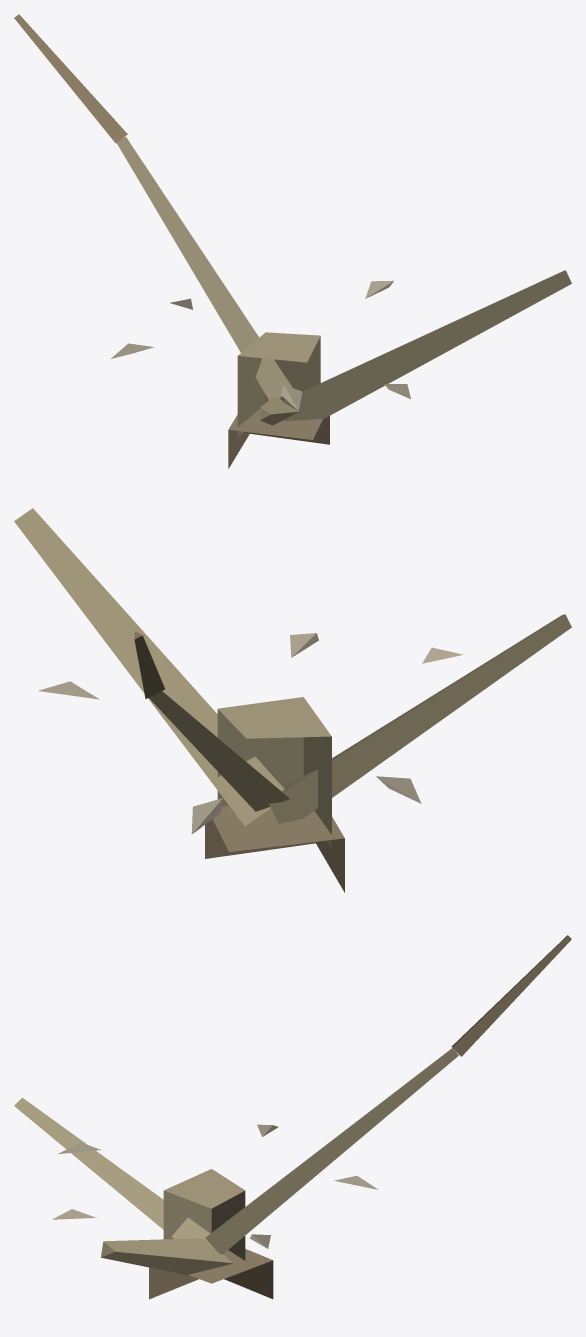
File: shu.chuilui@withered__summer.glb
3 renders of one model, top to bottom at view 1: azimuth 30°, elevation 25°; view 2: azimuth 150°, elevation 25°; view 3: azimuth 270°, elevation 25°, orthographic. The views are drawn at different scales.
Parts seen in each view (by area): view 1: shu.chuilui@withered__summer; view 2: shu.chuilui@withered__summer; view 3: shu.chuilui@withered__summer.
Boxes of the visible parts, left/top/right/bottom form: shu.chuilui@withered__summer: left=14, top=14, right=571, bottom=468; shu.chuilui@withered__summer: left=14, top=508, right=571, bottom=892; shu.chuilui@withered__summer: left=14, top=935, right=571, bottom=1299.
Bounding box in the file's own units: 4.7 × 3.94 × 6.13.
